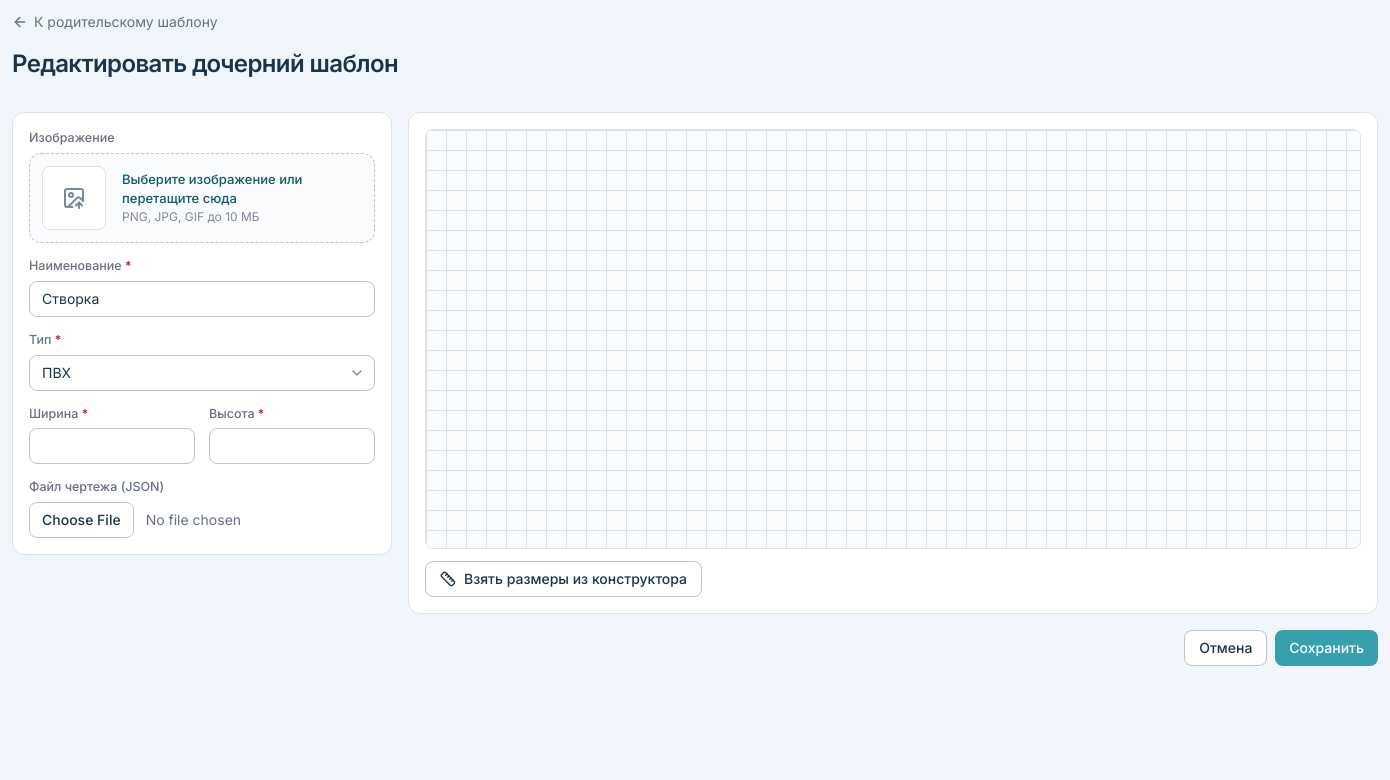
Scenario: Templates › takes the sizes from the constructor on demand
The image size is (1390, 780).
expect the field labelled "Наименование *" holds "Створка": met, box top-left (29, 281), bottom-right (375, 317)
Click the button "Взять размеры из конструктора" at (564, 579), box top-left (425, 561), bottom-right (702, 597)
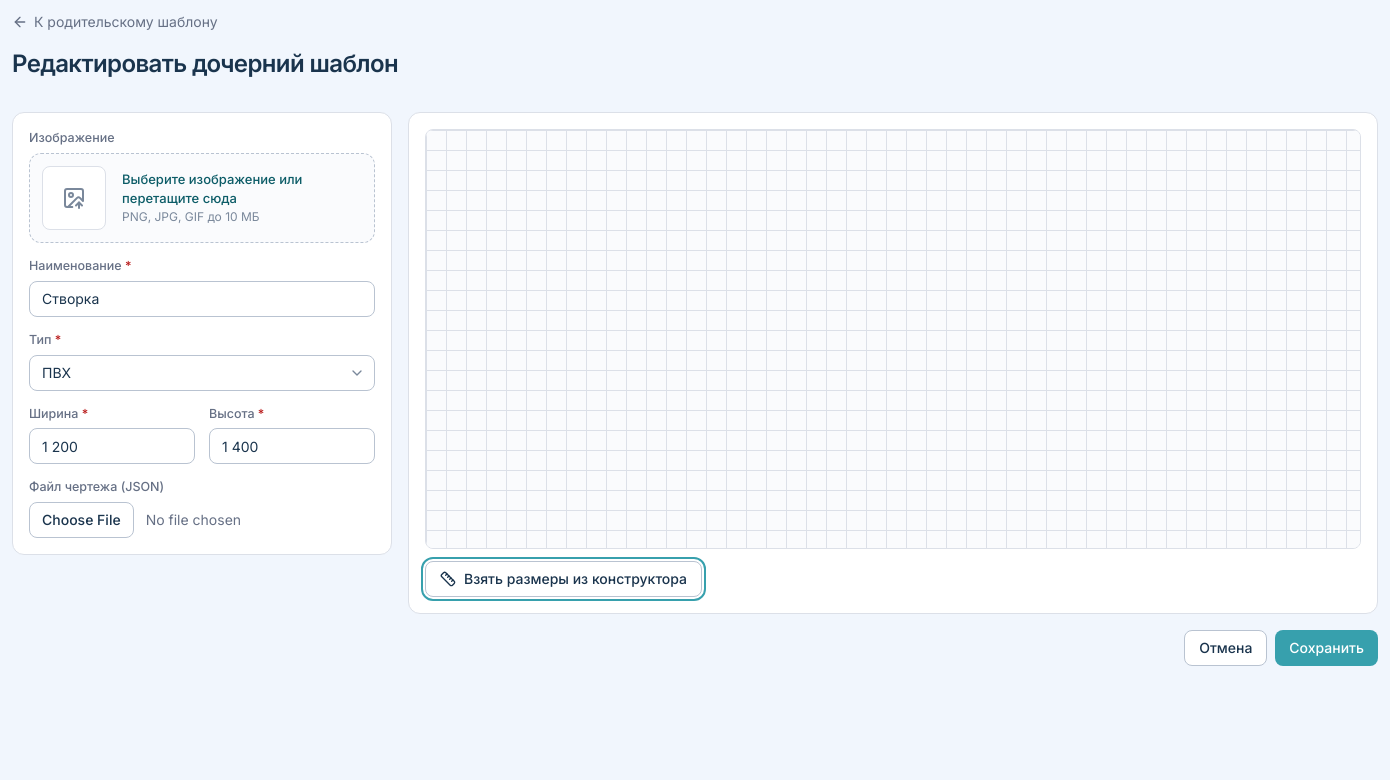
expect the field labelled "Ширина *" holds "1 200": met, box top-left (29, 428), bottom-right (195, 464)
expect the field labelled "Высота *" holds "1 400": met, box top-left (209, 428), bottom-right (375, 464)
